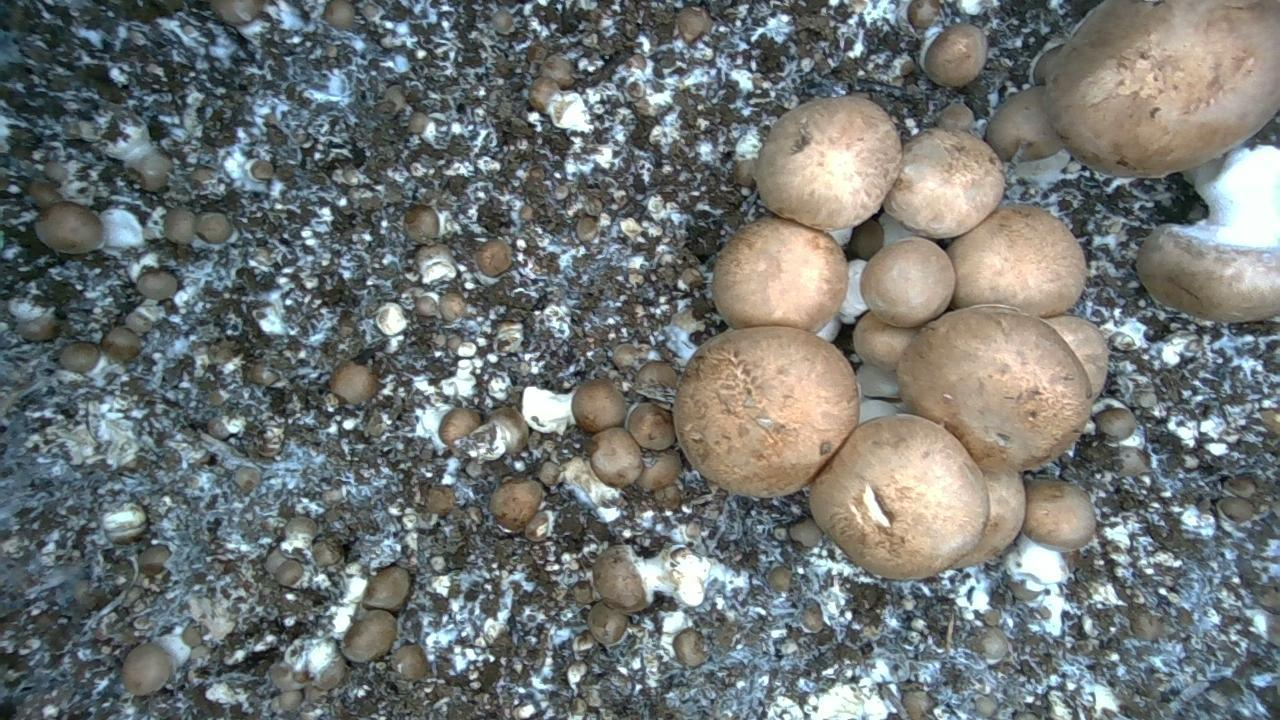BB: (1044, 0, 1279, 176), (897, 304, 1091, 470), (673, 326, 859, 497), (810, 415, 988, 578), (755, 96, 901, 230), (947, 205, 1086, 317), (713, 217, 847, 332), (883, 128, 1004, 238), (861, 237, 955, 327), (953, 469, 1025, 567), (986, 86, 1063, 160), (1045, 315, 1108, 398), (1023, 479, 1095, 551), (923, 24, 987, 86), (593, 545, 651, 613), (853, 312, 920, 369), (35, 201, 102, 253), (589, 427, 643, 487), (571, 378, 626, 433), (490, 478, 544, 531), (342, 610, 396, 662), (122, 643, 171, 695), (626, 402, 675, 450), (8, 298, 58, 341), (363, 566, 410, 610), (330, 361, 378, 403), (587, 602, 628, 645), (634, 361, 677, 402), (439, 408, 481, 447), (637, 453, 681, 490), (101, 326, 141, 362), (857, 364, 899, 398), (475, 238, 512, 276), (848, 219, 883, 259), (404, 204, 438, 243), (1095, 407, 1136, 439), (392, 644, 428, 680), (280, 516, 317, 551), (673, 628, 707, 666), (210, 0, 263, 24), (59, 342, 99, 373), (137, 269, 177, 300), (676, 7, 711, 42), (196, 212, 233, 243), (164, 208, 195, 244), (528, 76, 558, 111), (907, 0, 941, 29), (937, 104, 973, 131), (789, 518, 822, 547), (324, 0, 354, 30), (438, 291, 465, 322), (274, 560, 303, 586), (233, 466, 261, 492), (767, 565, 792, 592), (43, 160, 69, 184), (491, 9, 514, 34), (575, 215, 597, 241), (572, 630, 595, 653), (250, 159, 274, 181), (409, 112, 428, 133)
